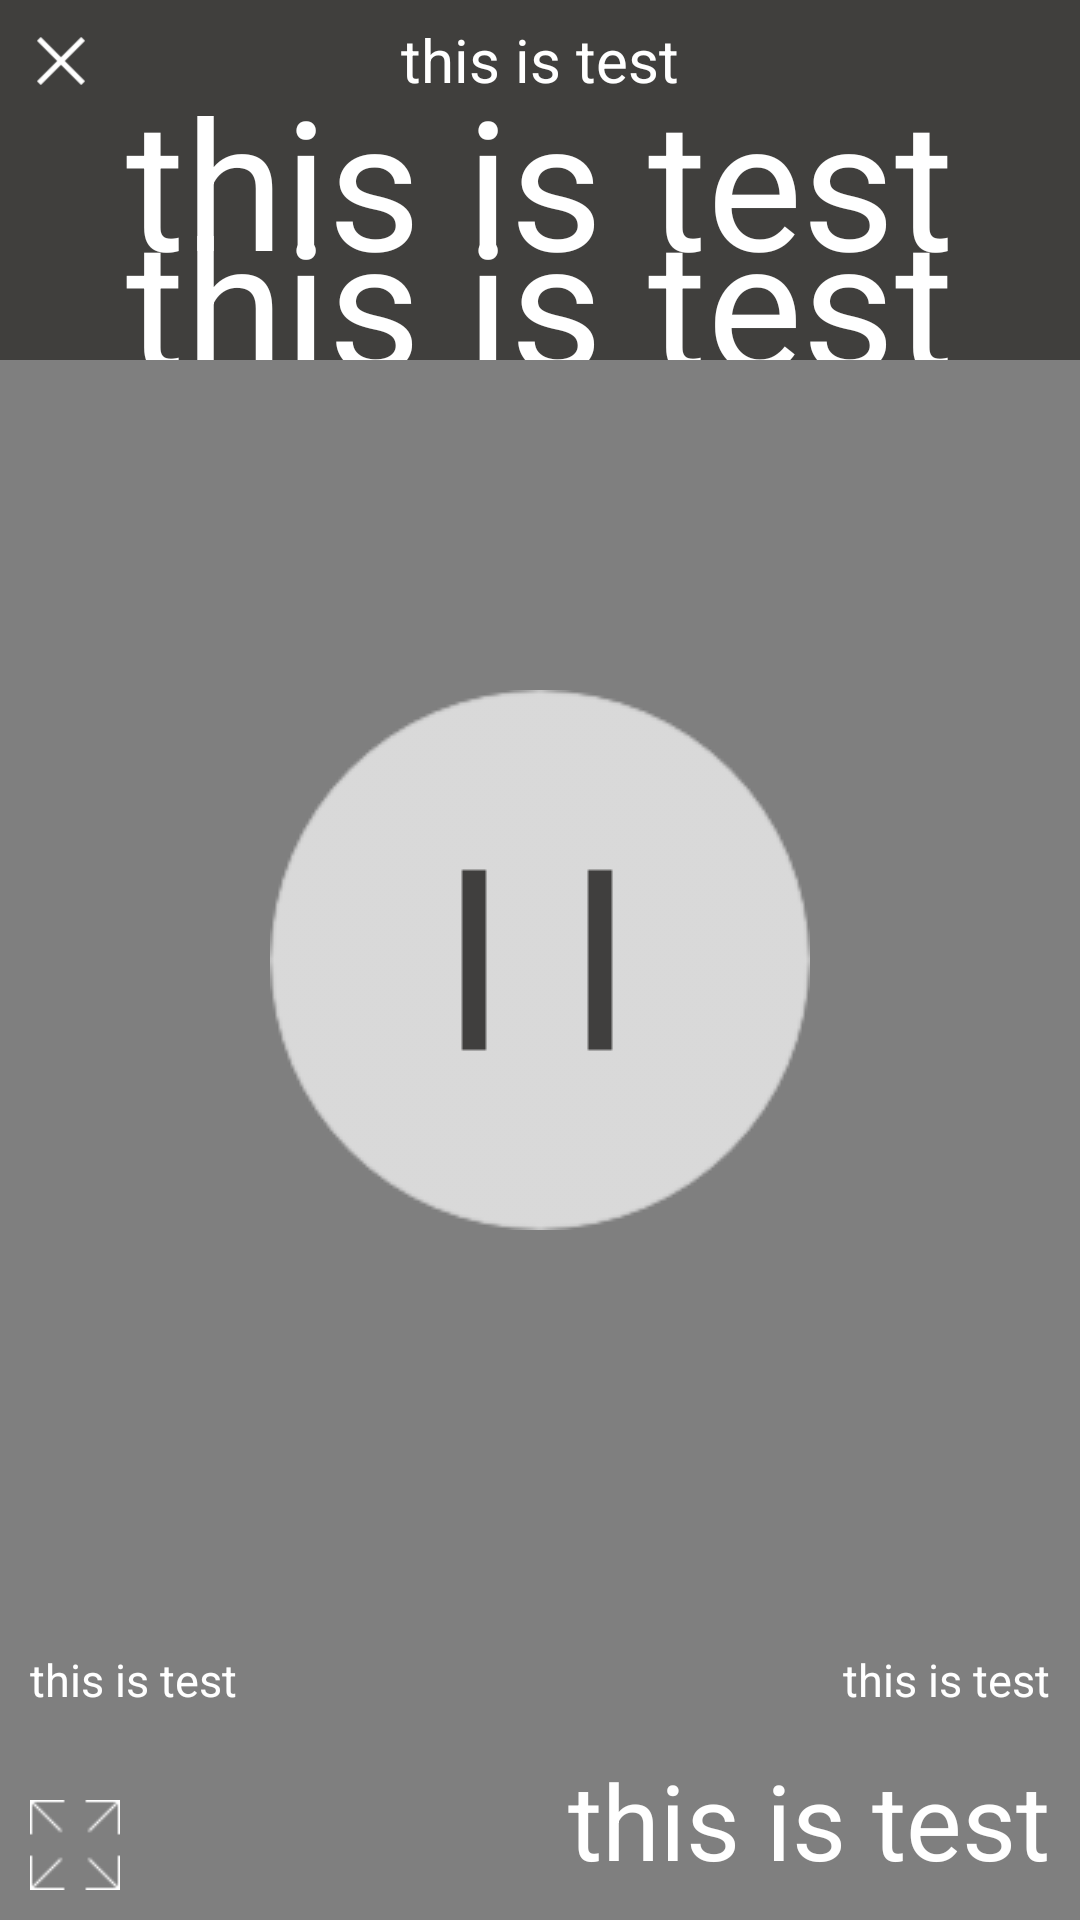

Named icons in this screenshot (1080×1920) and their centers, [x,y]:
full screen: [75,1845]
watermark close: [61,61]
